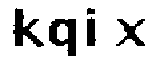i: (82, 7, 104, 51)
k: (11, 3, 43, 50)
q: (47, 15, 79, 60)
x: (112, 14, 149, 49)
